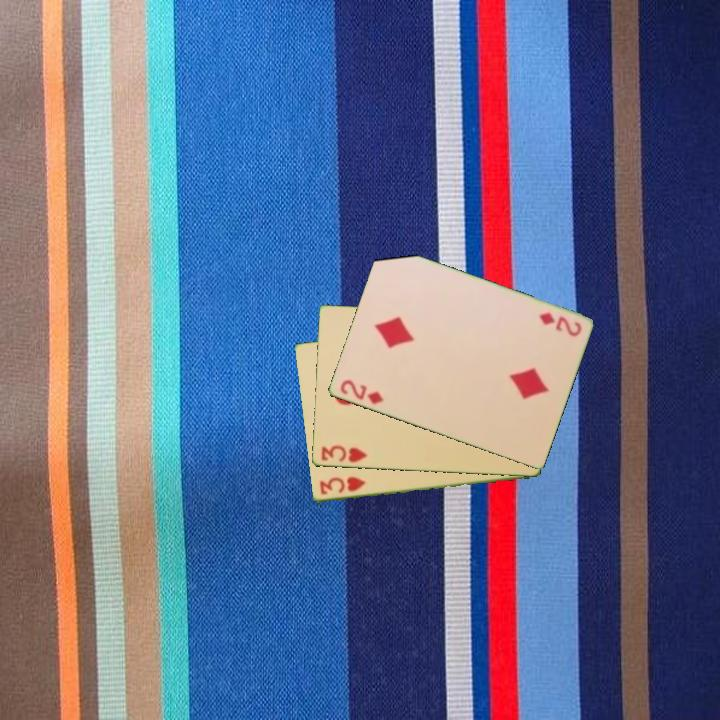2d: (336, 376, 386, 407), (535, 309, 584, 339)
3h: (316, 473, 368, 498), (317, 442, 370, 466)
